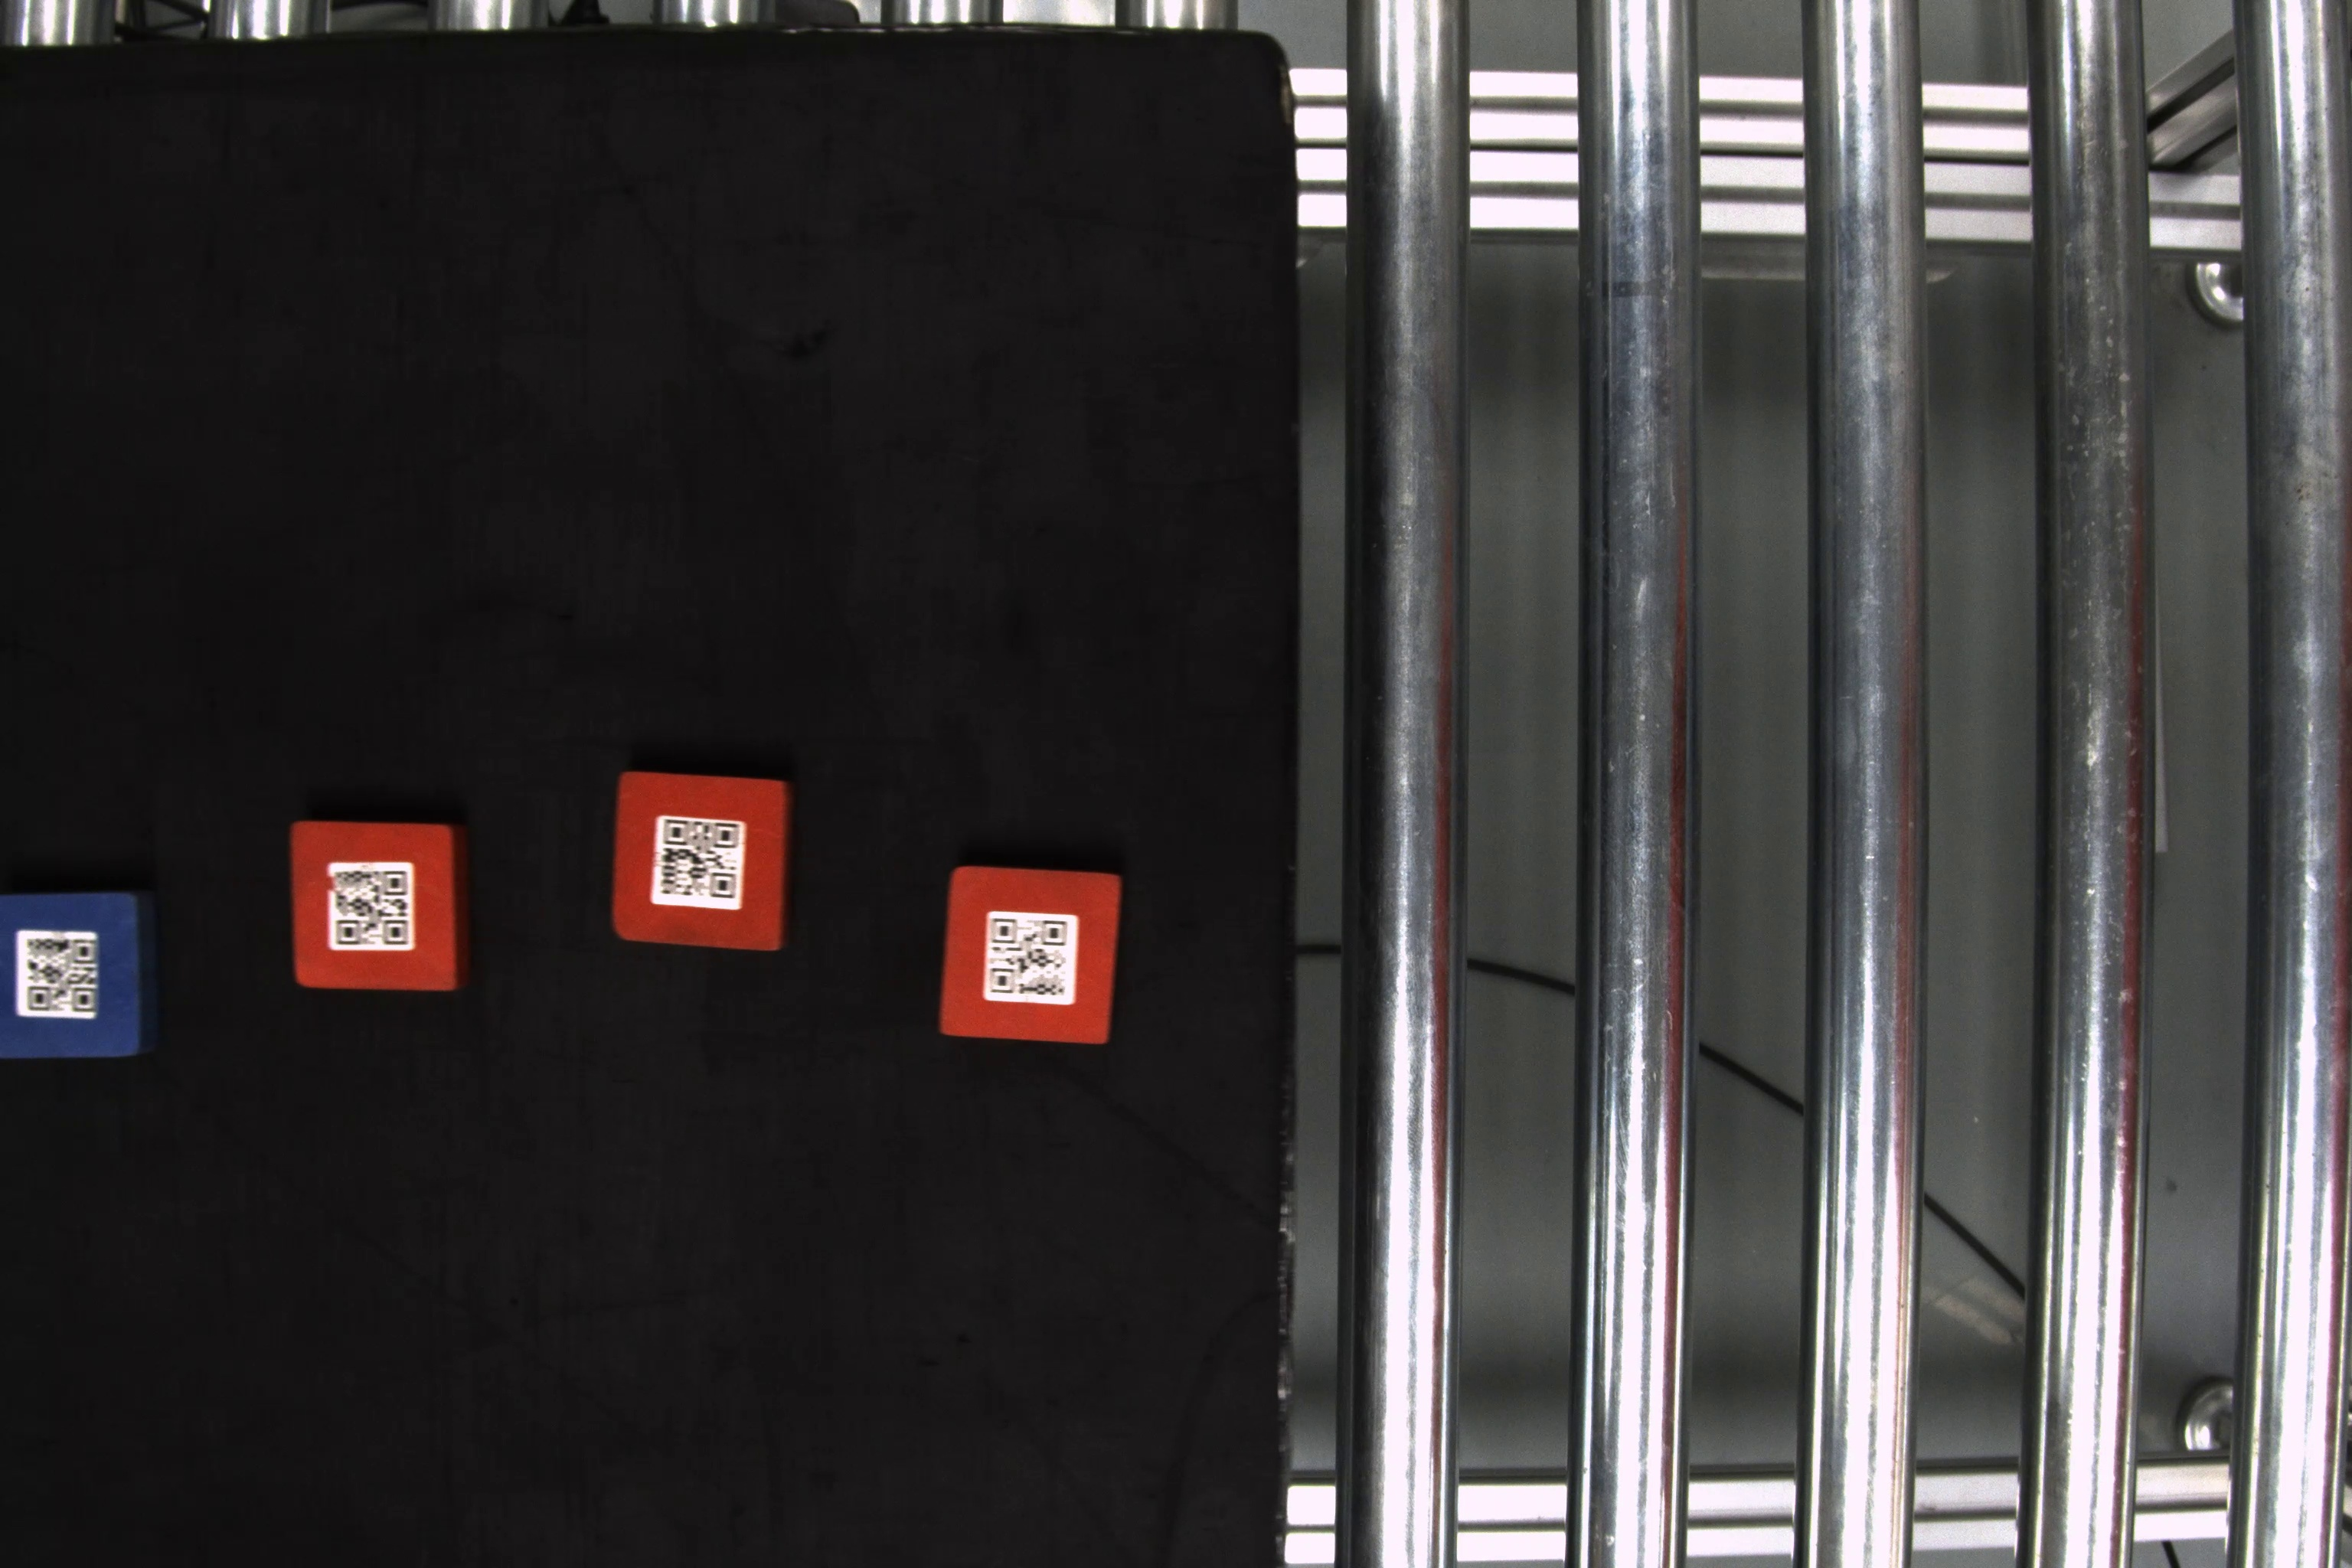wood: (605, 765, 803, 957), (936, 861, 1127, 1053), (289, 814, 479, 997), (2, 887, 163, 1060)
